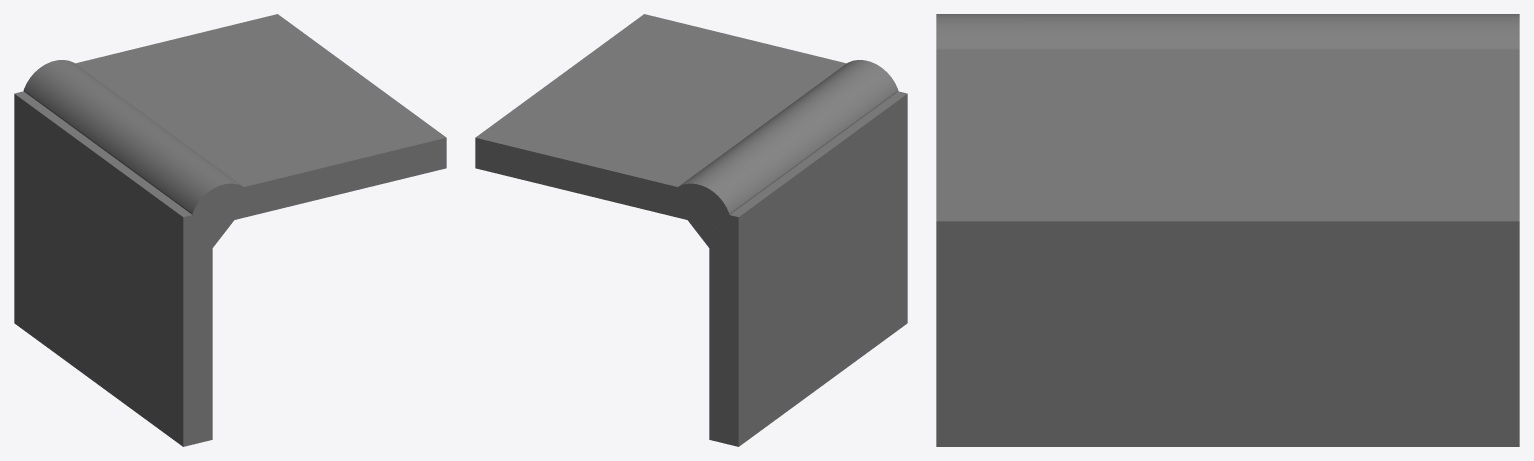
3 views of the same model, side by side, from view 1: azimuth 30°, elevation 25°; view 2: azimuth 150°, elevation 25°; view 3: azimuth 270°, elevation 25° (orthographic). The views are drawn at different scales.
Visible parts, largest first — view 1: mesh_id4, mesh_id5; view 2: mesh_id4, mesh_id5; view 3: mesh_id4, mesh_id5.
Part boxes in pixels (left/top/right/bottom): mesh_id4: left=14, top=14, right=446, bottom=446; mesh_id5: left=23, top=60, right=244, bottom=248; mesh_id4: left=475, top=14, right=907, bottom=446; mesh_id5: left=677, top=60, right=898, bottom=248; mesh_id4: left=936, top=50, right=1519, bottom=446; mesh_id5: left=936, top=14, right=1519, bottom=50.
Bounding box in the file's own units: 0.512 × 0.4691 × 0.5689.
2 materials, 2 textured.
